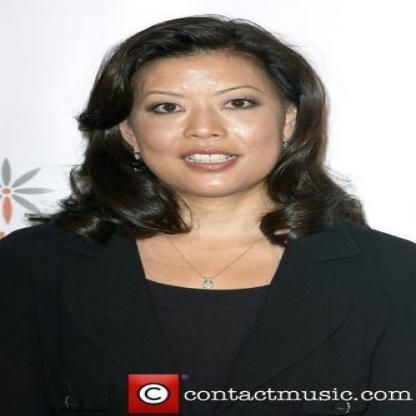long-hair: (43, 198, 368, 231)
